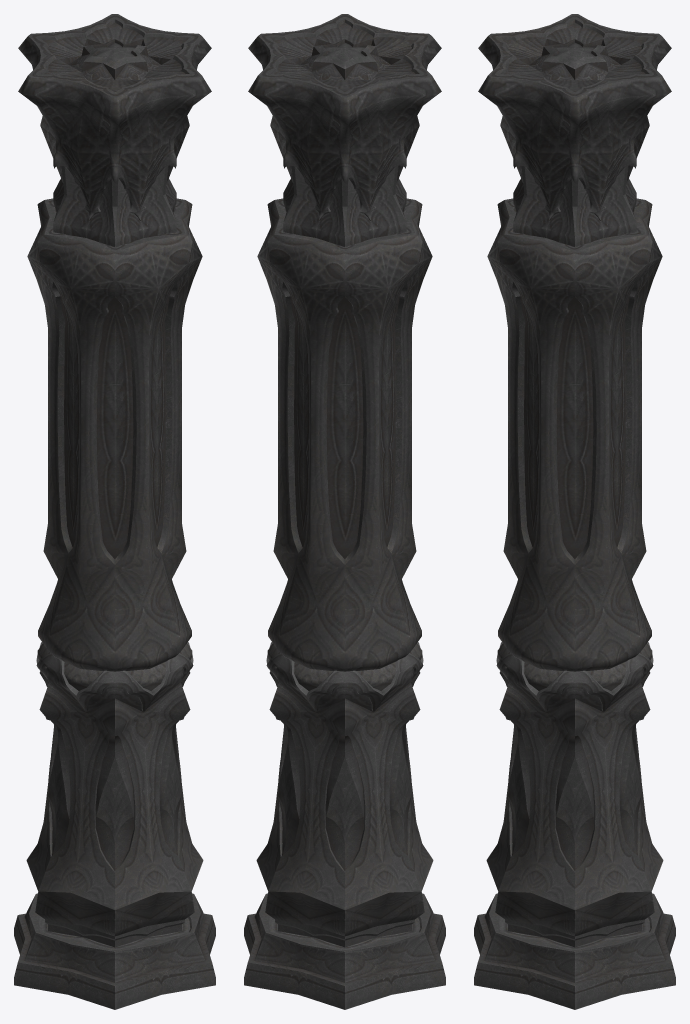
Rendered from bg_rad_kamen_pillar07_sm.obj.
3 views of the same model, side by side, from view 1: azimuth 30°, elevation 25°; view 2: azimuth 150°, elevation 25°; view 3: azimuth 270°, elevation 25° (orthographic).
Parts seen in each view (by area): view 1: bg_rad_kamen_pillar07_sm_1, bg_rad_kamen_pillar07_sm_0; view 2: bg_rad_kamen_pillar07_sm_1, bg_rad_kamen_pillar07_sm_0; view 3: bg_rad_kamen_pillar07_sm_1, bg_rad_kamen_pillar07_sm_0.
Part boxes in pixels (box(x1,y1,x2,y2)): bg_rad_kamen_pillar07_sm_1: box(18, 14, 211, 671); bg_rad_kamen_pillar07_sm_0: box(14, 642, 215, 1009); bg_rad_kamen_pillar07_sm_1: box(248, 14, 441, 671); bg_rad_kamen_pillar07_sm_0: box(244, 642, 445, 1009); bg_rad_kamen_pillar07_sm_1: box(478, 14, 671, 671); bg_rad_kamen_pillar07_sm_0: box(474, 642, 675, 1009).
Bounding box in the file's own units: 1.72 × 7.43 × 1.49.
Materials: 2 (2 with a texture image).
